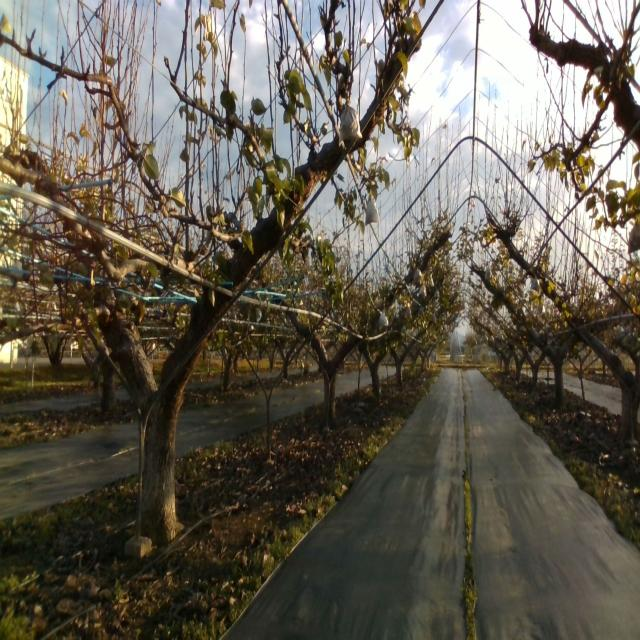pearbags: (338, 106, 363, 148), (627, 219, 640, 256), (364, 196, 380, 226), (605, 190, 620, 218), (378, 309, 388, 327), (414, 267, 423, 286)
